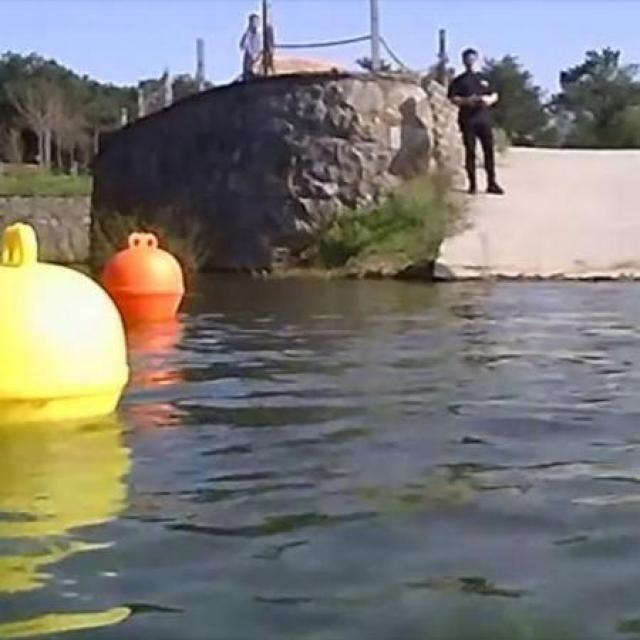buoy: (1, 220, 130, 414), (111, 229, 183, 319)
